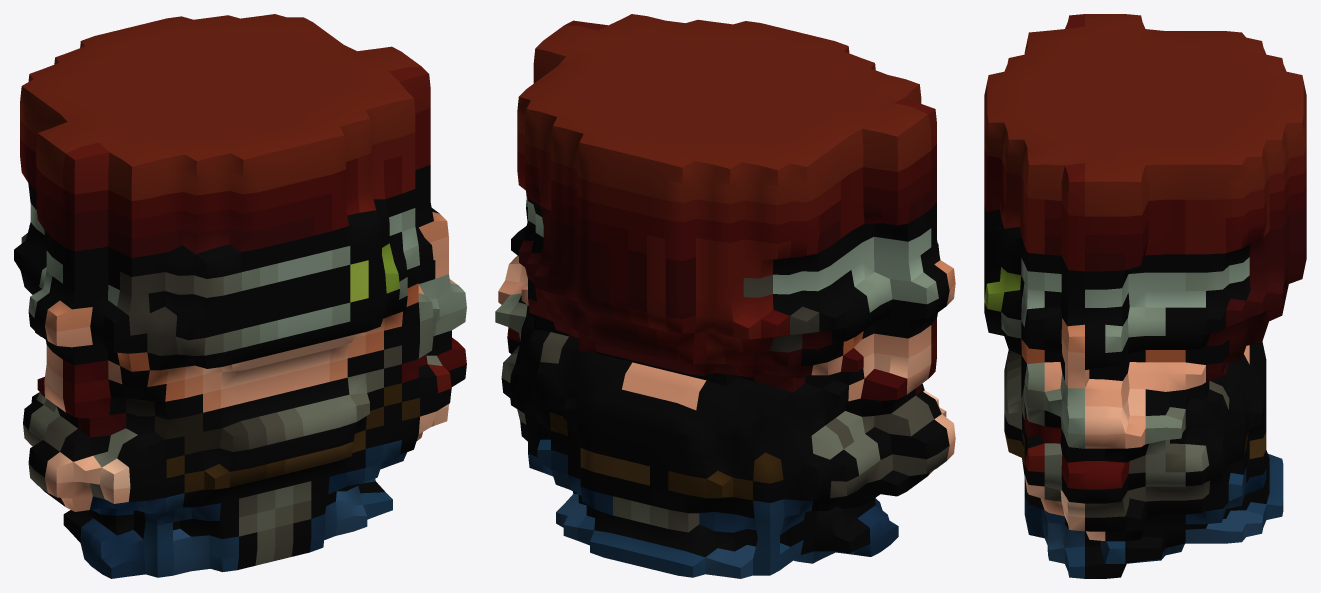
File: Icon_701_02.obj
3 renders of one model, left to right at view 1: azimuth 30°, elevation 25°; view 2: azimuth 150°, elevation 25°; view 3: azimuth 270°, elevation 25°, orthographic. The views are drawn at different scales.
Size of the model in its own units: 2.3 by 2.3 by 1.6.
Materials: 1 (1 with a texture image).
